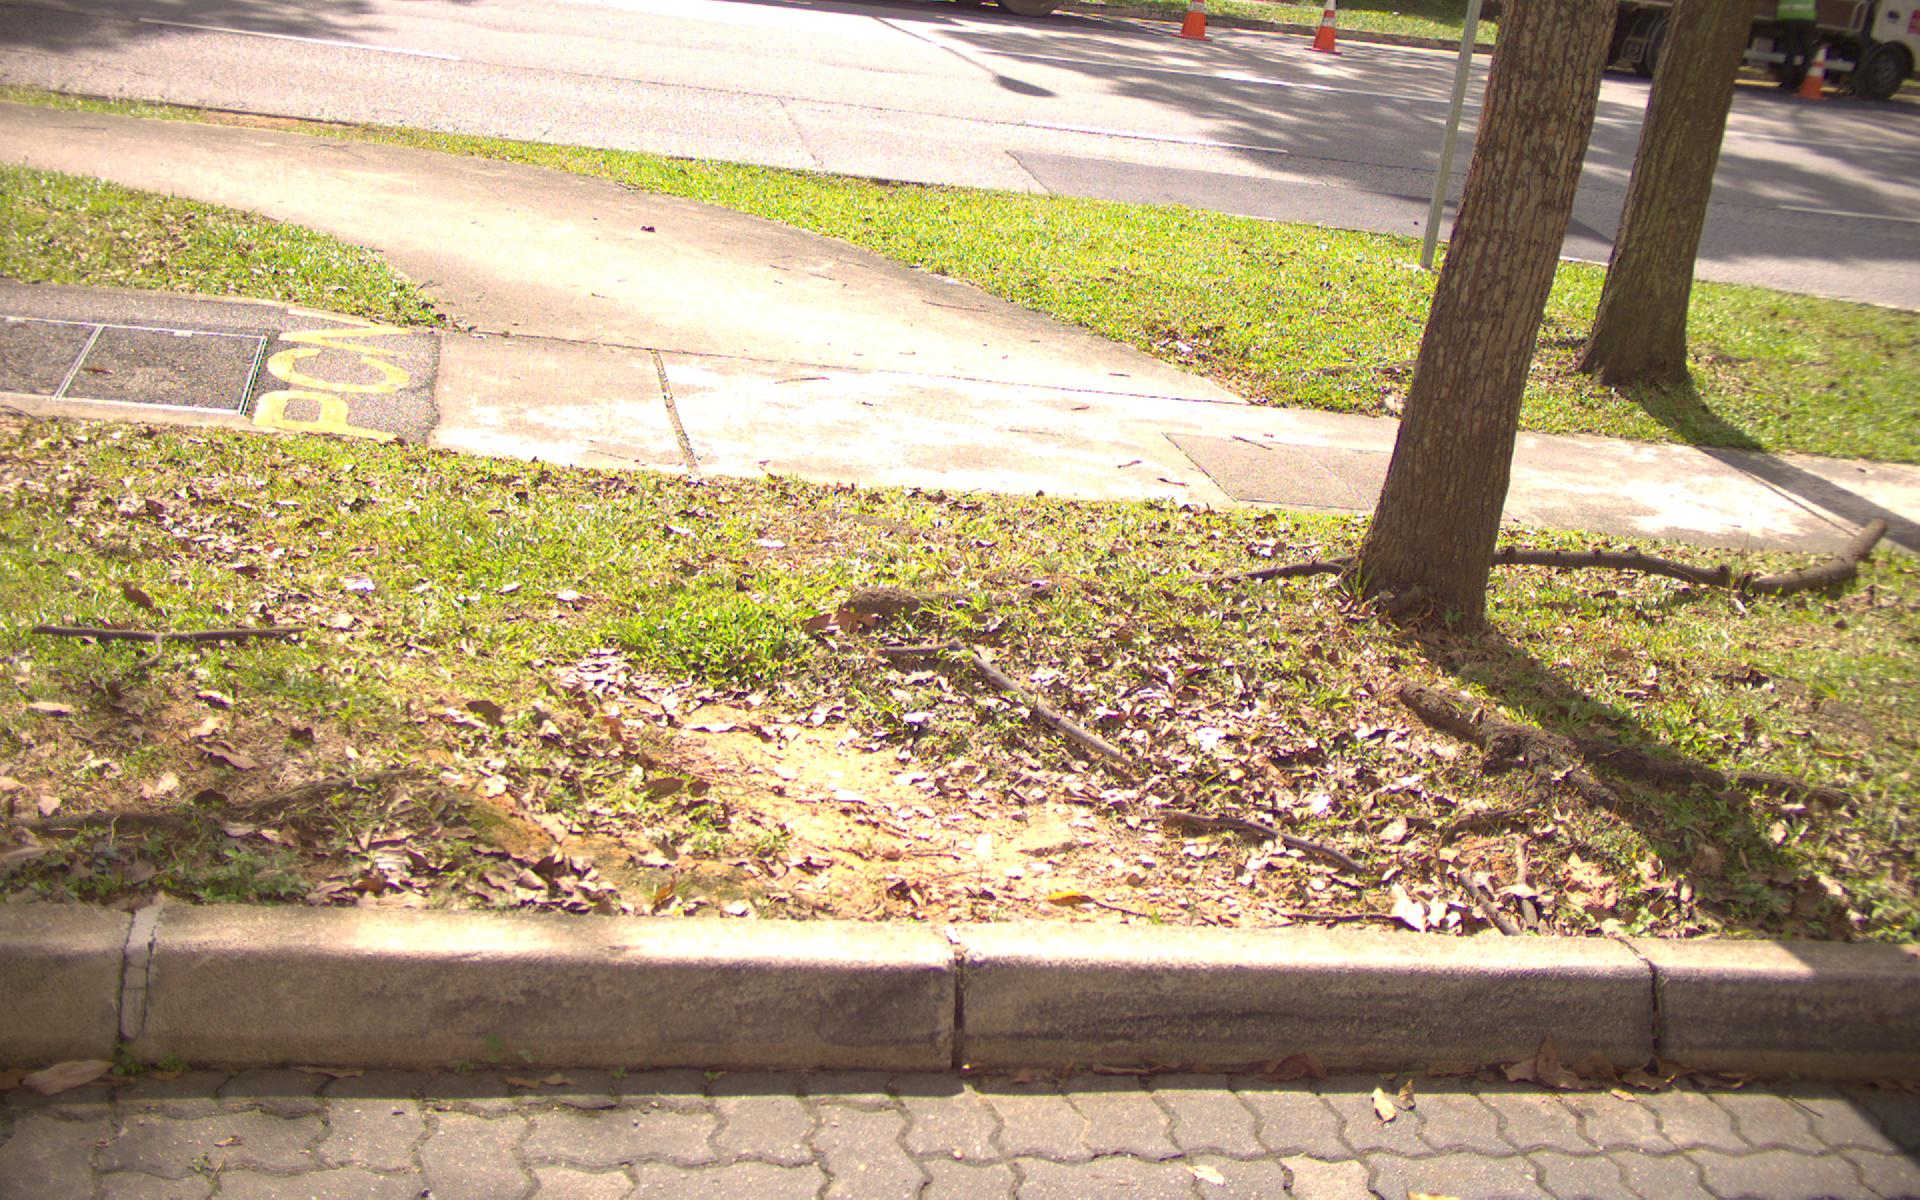road_turf_low: (21, 525, 1912, 936), (1160, 227, 1454, 371)
